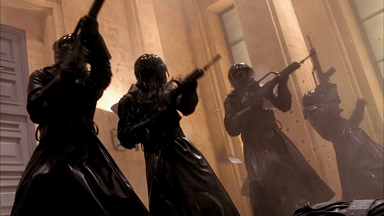firearm: (230, 45, 318, 121), (156, 49, 222, 115), (62, 1, 107, 65), (303, 31, 339, 92)
